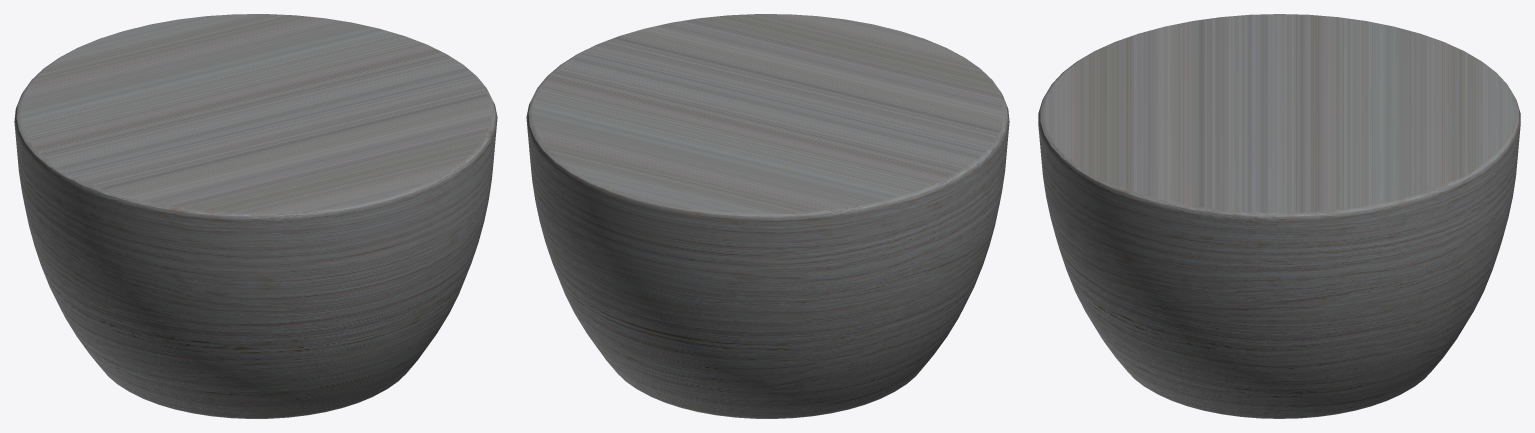
Rendered from CrowsnestBlock1.fbx.
3 renders of one model, left to right at view 1: azimuth 30°, elevation 25°; view 2: azimuth 150°, elevation 25°; view 3: azimuth 270°, elevation 25°, orthographic.
Parts seen in each view (by area): view 1: pCylinder3; view 2: pCylinder3; view 3: pCylinder3.
Boxes of the visible parts, box(x1,y1,x2,y2) form: pCylinder3: box(14, 14, 497, 418); pCylinder3: box(526, 14, 1009, 418); pCylinder3: box(1038, 14, 1520, 418).
Size of the model in its own units: 2.61 by 1.43 by 2.6.
